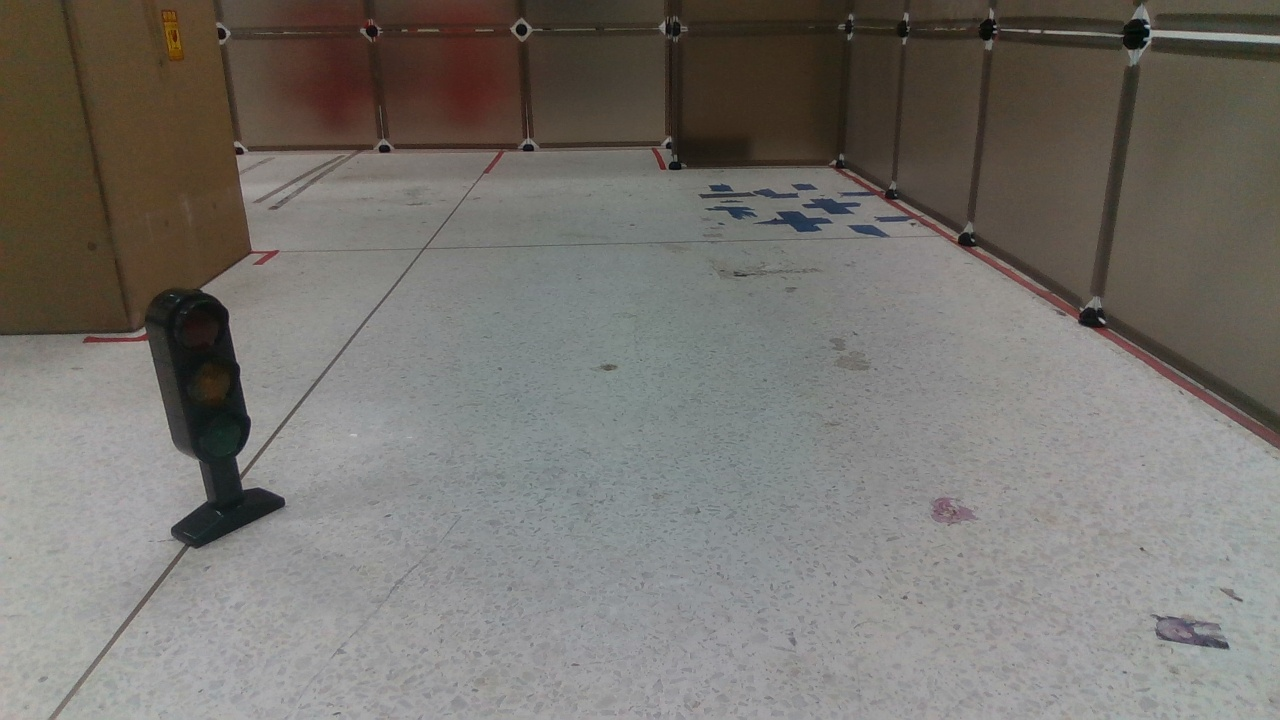Dim traffic light: (128, 284, 292, 554)
